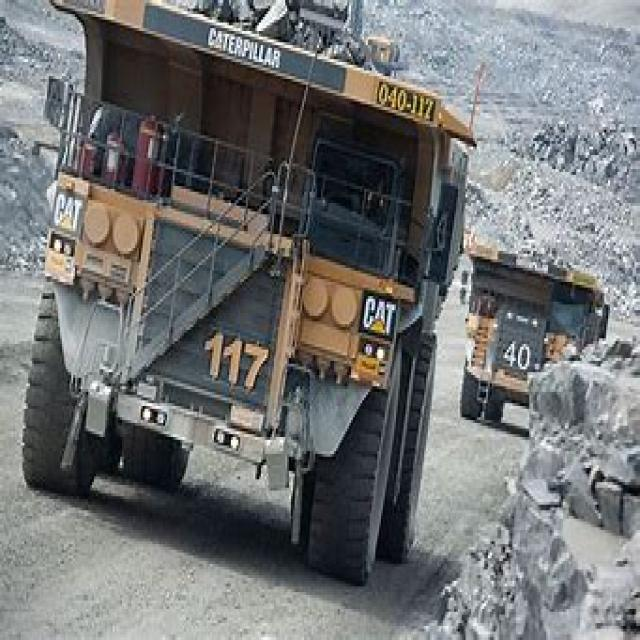dump_truck: (22, 3, 458, 589), (462, 225, 604, 442)
